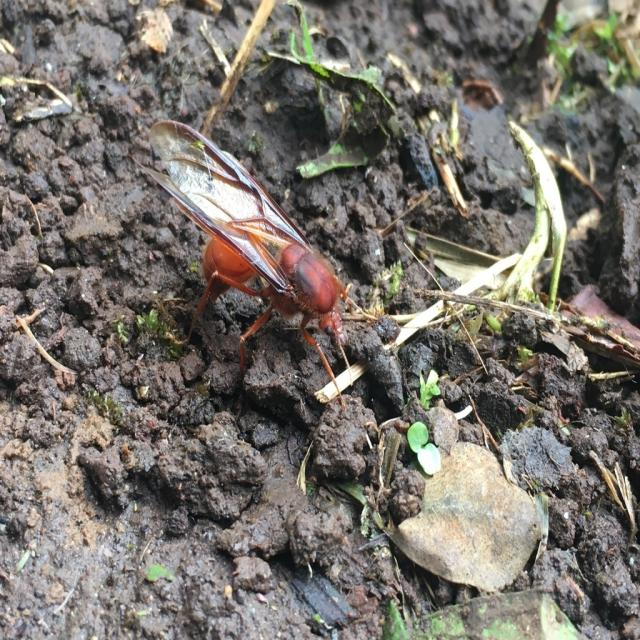Alive-Male-Alate: (131, 120, 378, 410)
